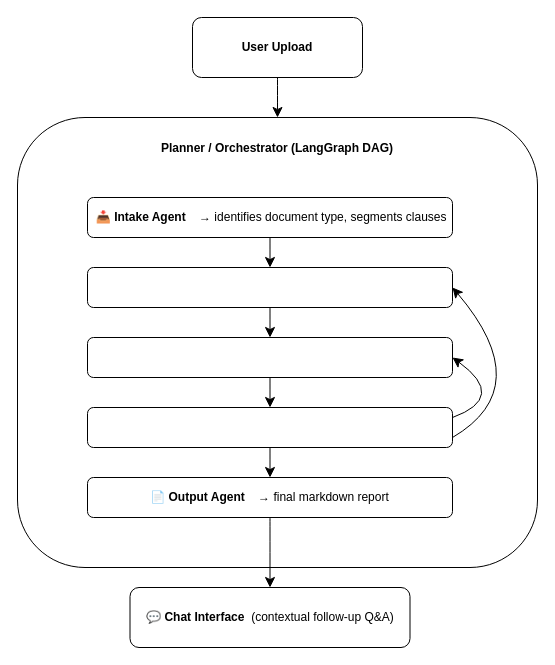
This 555x665 diagram has some shape labels left out. Each missing label, with the box of its shape:
✅ Evaluator Agent → confidence scoring; reflection loop if < 0.70: (86, 406, 452, 448)
🔍 Research Agent → RAG retrieval per clause: (86, 266, 452, 308)
🧠 Analysis Agent → risk flags, obligations, plain summaries: (86, 336, 452, 378)
